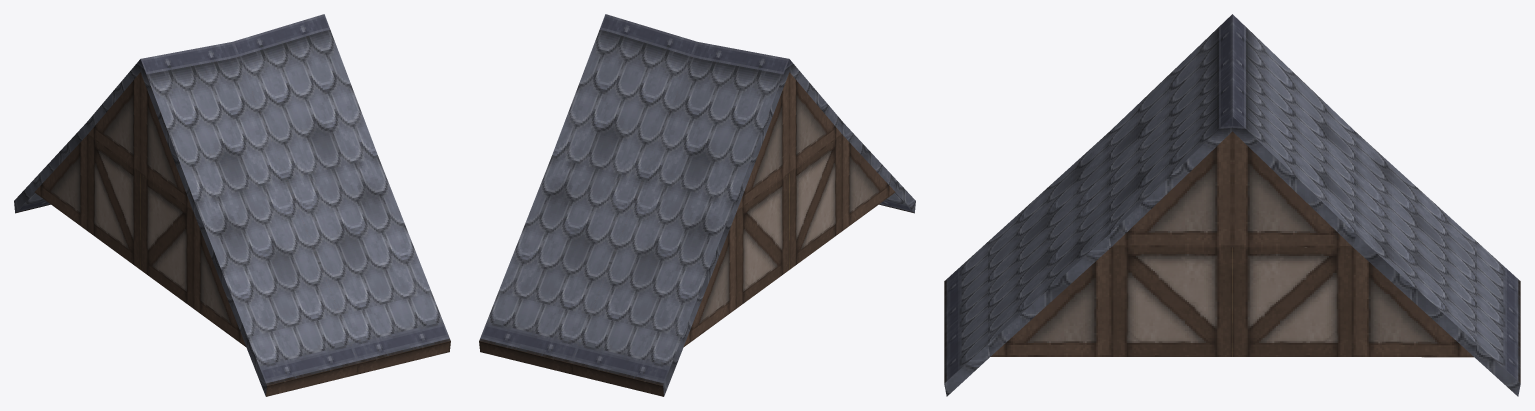
File: roof_blue_half.glb
3 views of the same model, side by side, from view 1: azimuth 30°, elevation 25°; view 2: azimuth 150°, elevation 25°; view 3: azimuth 270°, elevation 25° (orthographic). The views are drawn at different scales.
Visible parts, largest first — view 1: roof_blue_half; view 2: roof_blue_half; view 3: roof_blue_half.
Boxes of the visible parts, <box> form: roof_blue_half: <box>14,14,450,396</box>; roof_blue_half: <box>479,14,915,396</box>; roof_blue_half: <box>944,14,1520,396</box>.
Size of the model in its own units: 2 by 2.56 by 4.76.
1 material, 1 textured.
